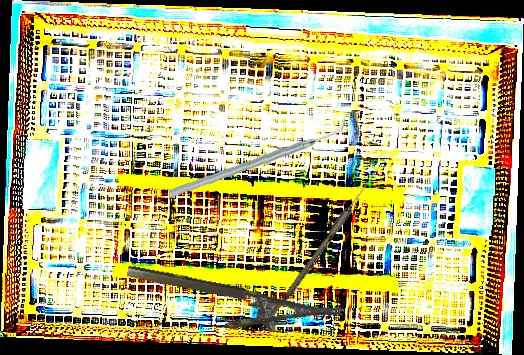Chopper: (168, 108, 346, 208)
Needle Holder: (120, 263, 345, 351)
Surgical Spoon: (265, 166, 381, 325)
